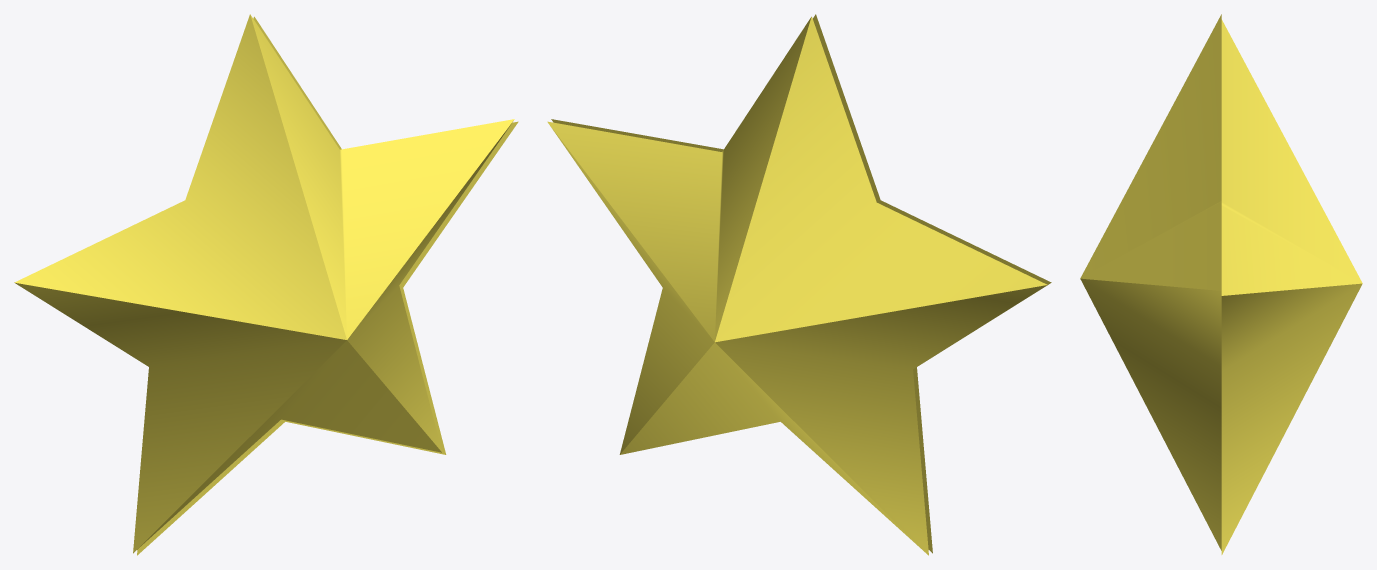
File: darlene-yellow-star.fbx
The picture shows the model from 3 angles, left to right: view 1: azimuth 30°, elevation 25°; view 2: azimuth 150°, elevation 25°; view 3: azimuth 270°, elevation 25°; orthographic projection. The views are drawn at different scales.
Parts seen in each view (by area): view 1: 3; view 2: 3; view 3: 3.
Part boxes in pixels (left/top/right/bottom): 3: left=14, top=14, right=518, bottom=555; 3: left=547, top=14, right=1051, bottom=555; 3: left=1080, top=14, right=1362, bottom=554.
Size of the model in its own units: 3823 by 3723 by 2000.
